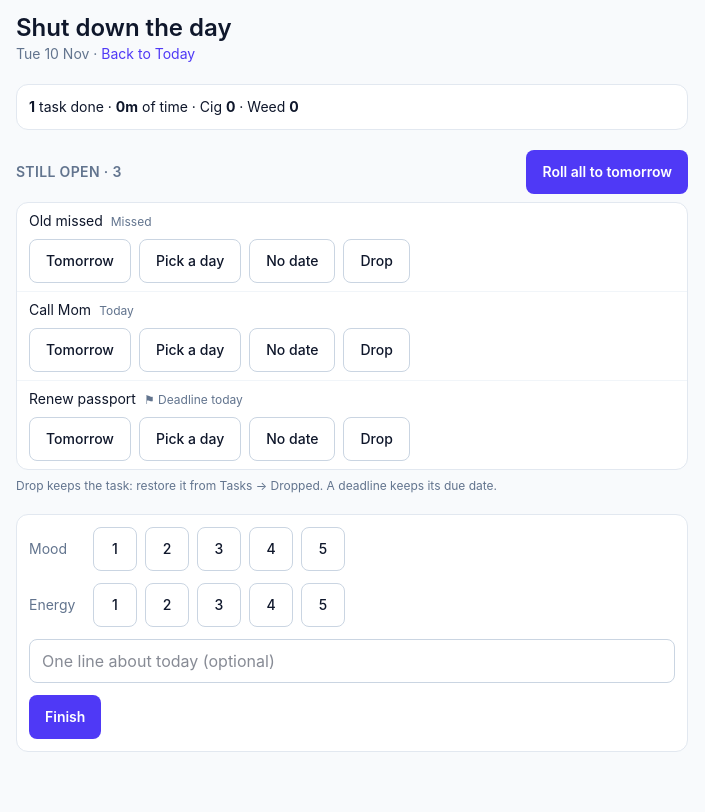
Test case: evening shutdown › one tap rolls every unfinished task to tomorrow and a deadline keeps its date
Click the button "Roll all to tomorrow".
click(607, 172)  # box [526,150,688,194]
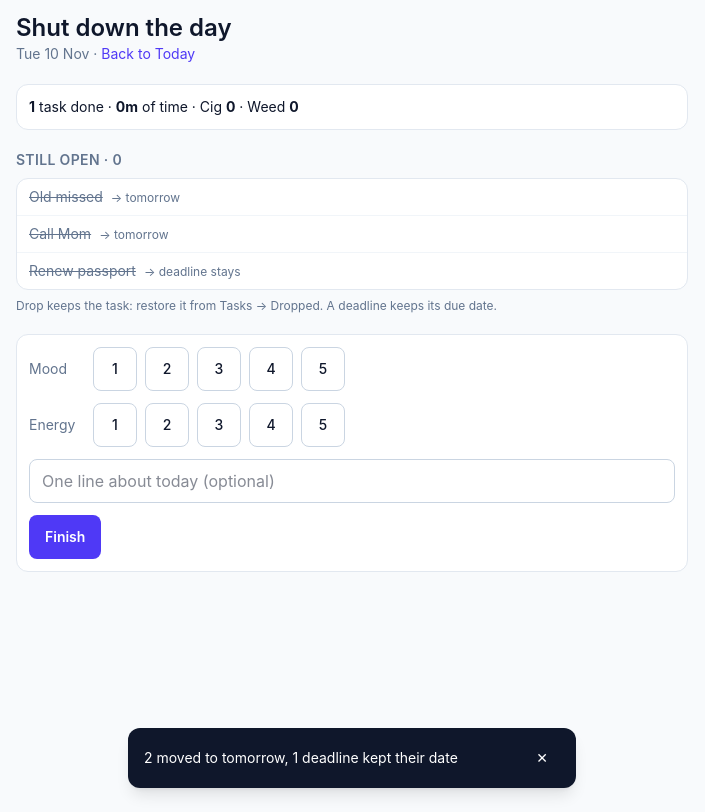
Check: the text "→ deadline stays" is shown, box [144,264,240,279]
